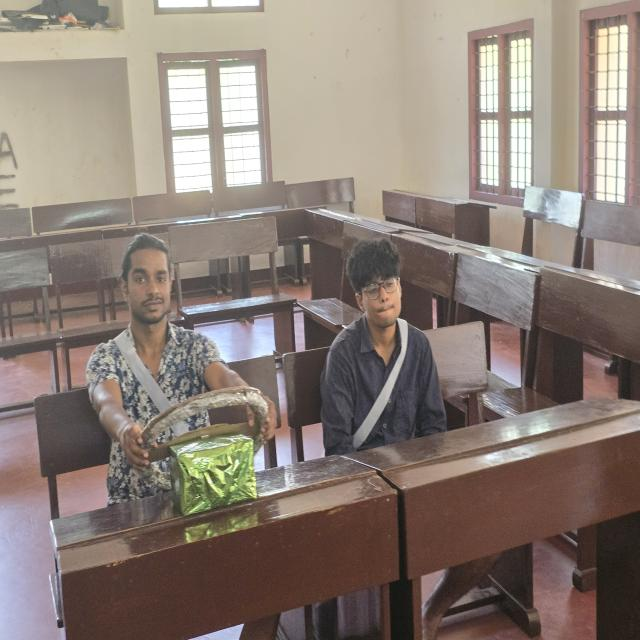seatbelt: (101, 326, 216, 494), (330, 316, 417, 456)
